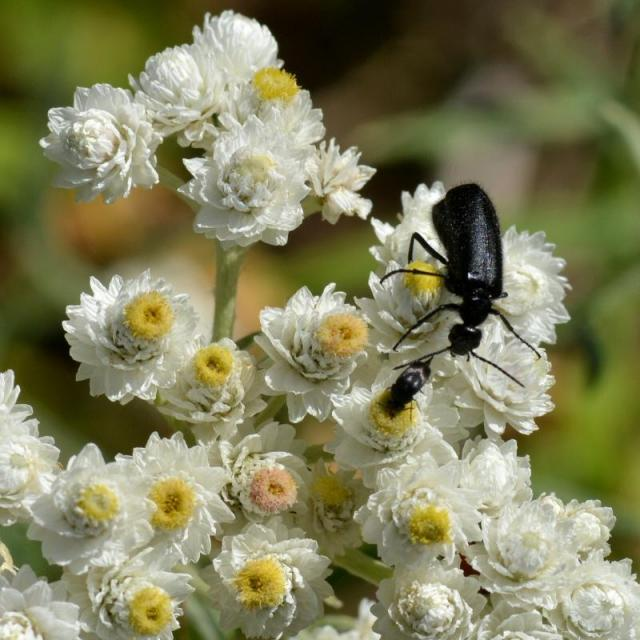BlisterBeetle-Adult-: (385, 176, 544, 390)
